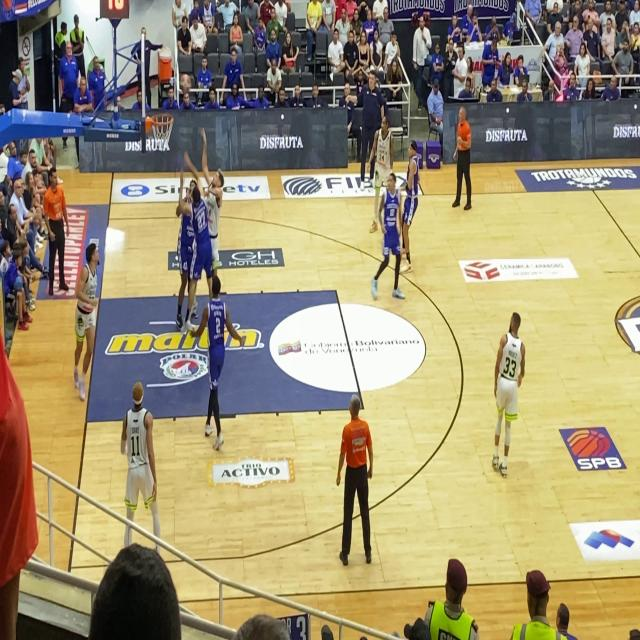Ball: (180, 70, 191, 95)
referee: (334, 387, 383, 580), (40, 154, 74, 315), (447, 107, 480, 214)
team1: (122, 368, 166, 556), (491, 290, 523, 492), (69, 240, 95, 426), (200, 133, 231, 274), (367, 96, 394, 220)
team2: (188, 264, 244, 459), (369, 150, 405, 312), (177, 170, 202, 334), (402, 128, 428, 277), (189, 172, 217, 303)
ubasket: (150, 112, 173, 150)
